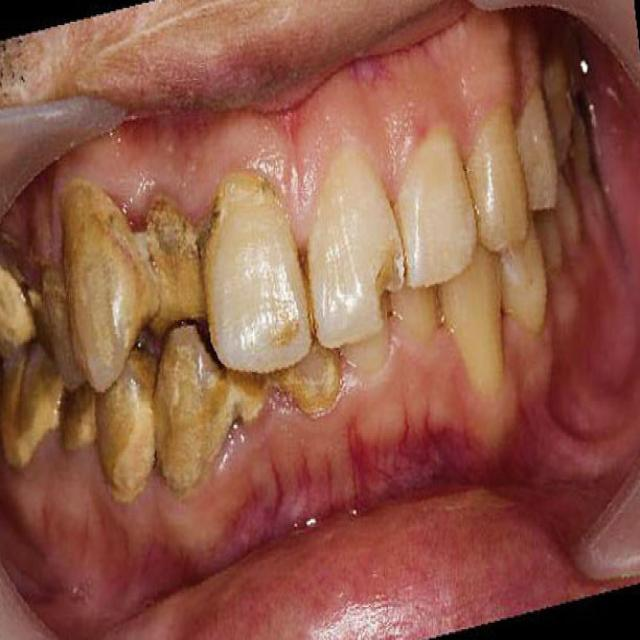caries: (366, 241, 418, 333)
